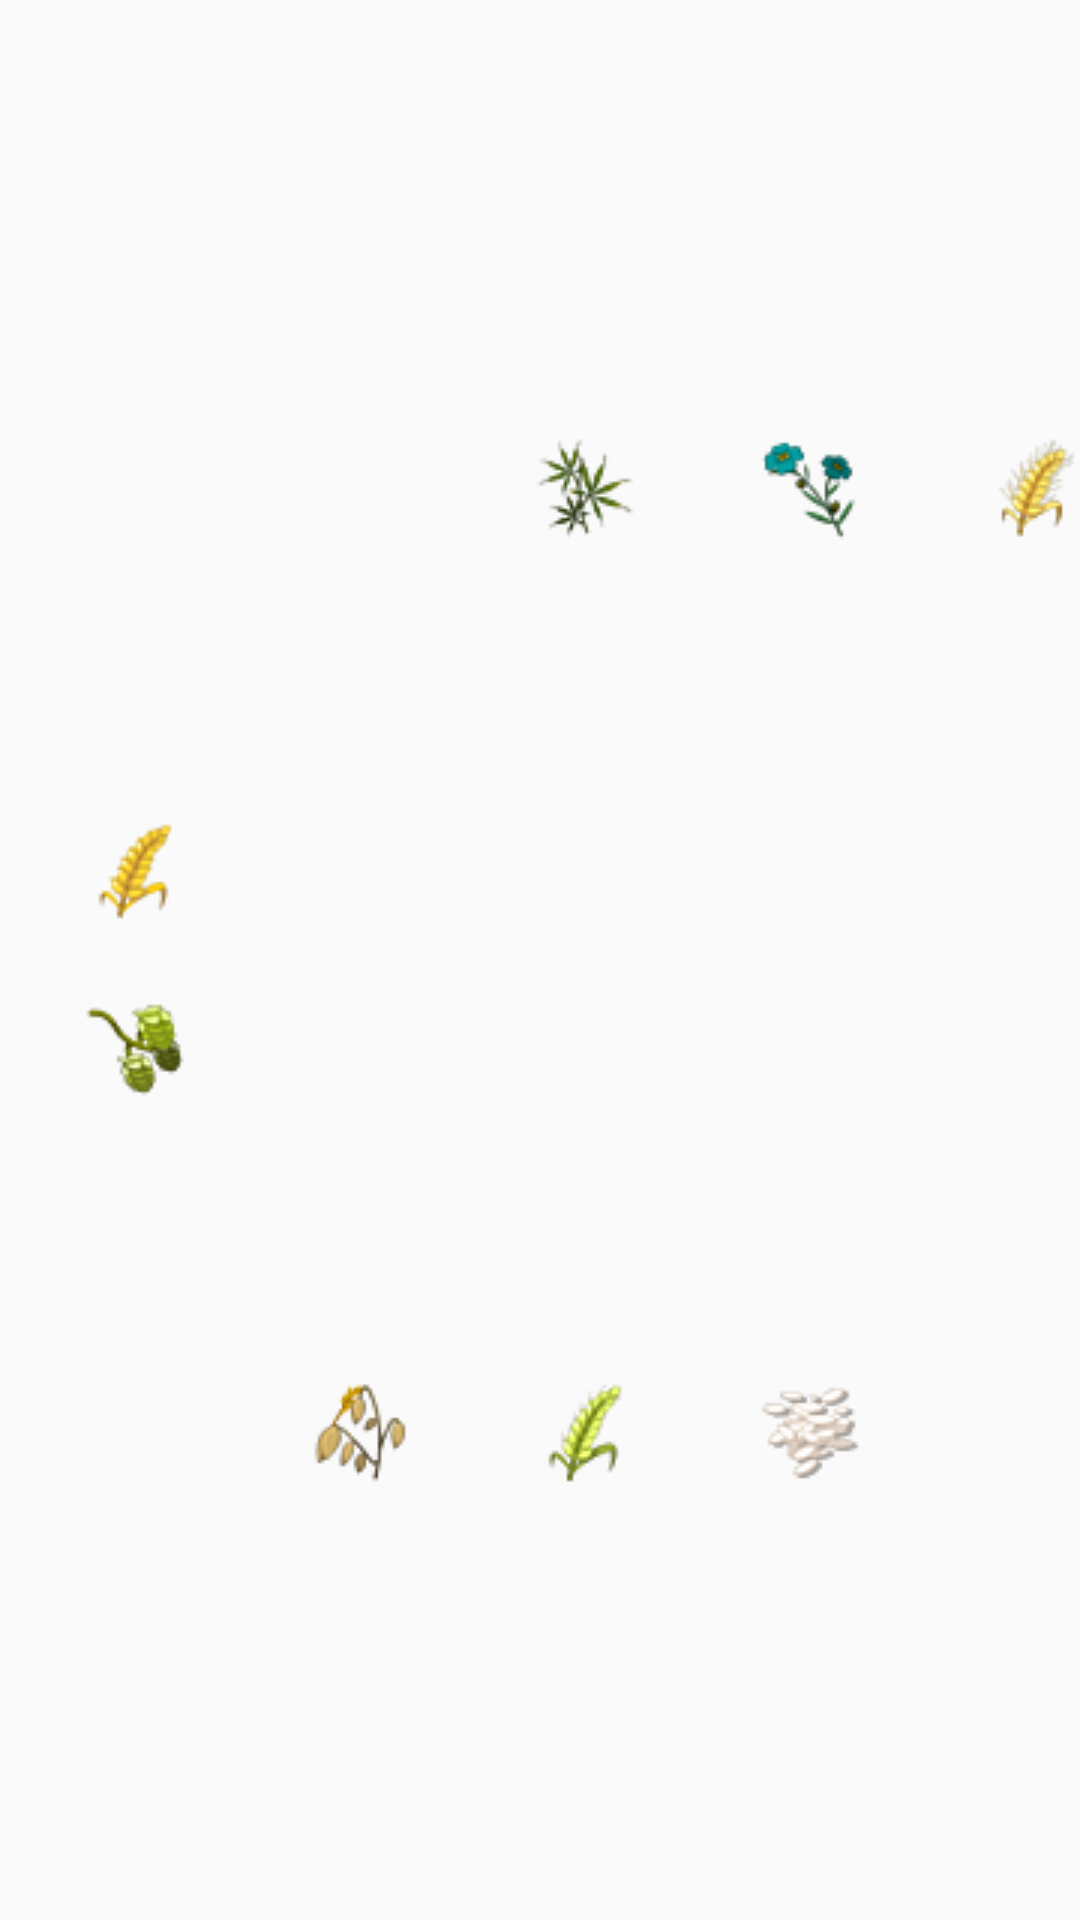

Named icons in this screenshot (1080px x 1920px) and their centers, point (x, y):
avoine: point (360, 1432)
ble: point (135, 871)
chanvre: point (585, 488)
houblon: point (135, 1049)
lin: point (809, 489)
riz: point (810, 1433)
seigle: point (585, 1433)
